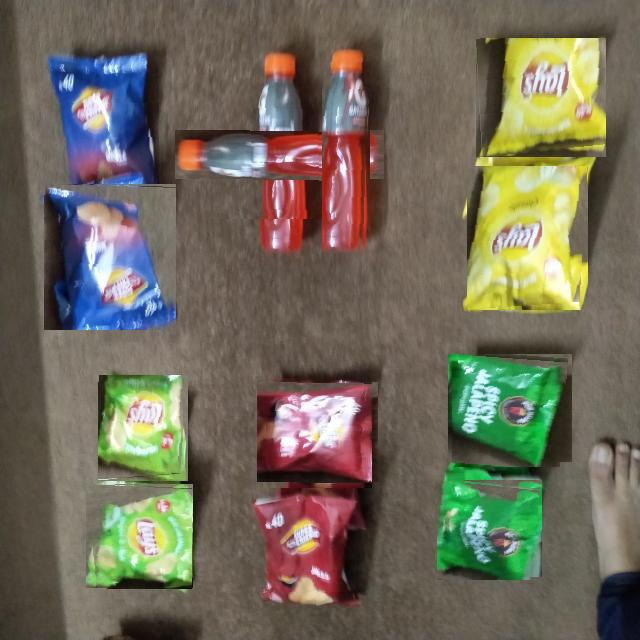Plastic: (44, 183, 176, 330), (467, 166, 588, 310), (215, 90, 345, 219), (475, 38, 606, 157), (44, 52, 159, 184), (452, 350, 568, 467), (253, 490, 360, 608), (262, 377, 372, 488), (86, 483, 192, 589), (437, 478, 540, 580), (322, 49, 370, 252), (98, 376, 188, 482)
